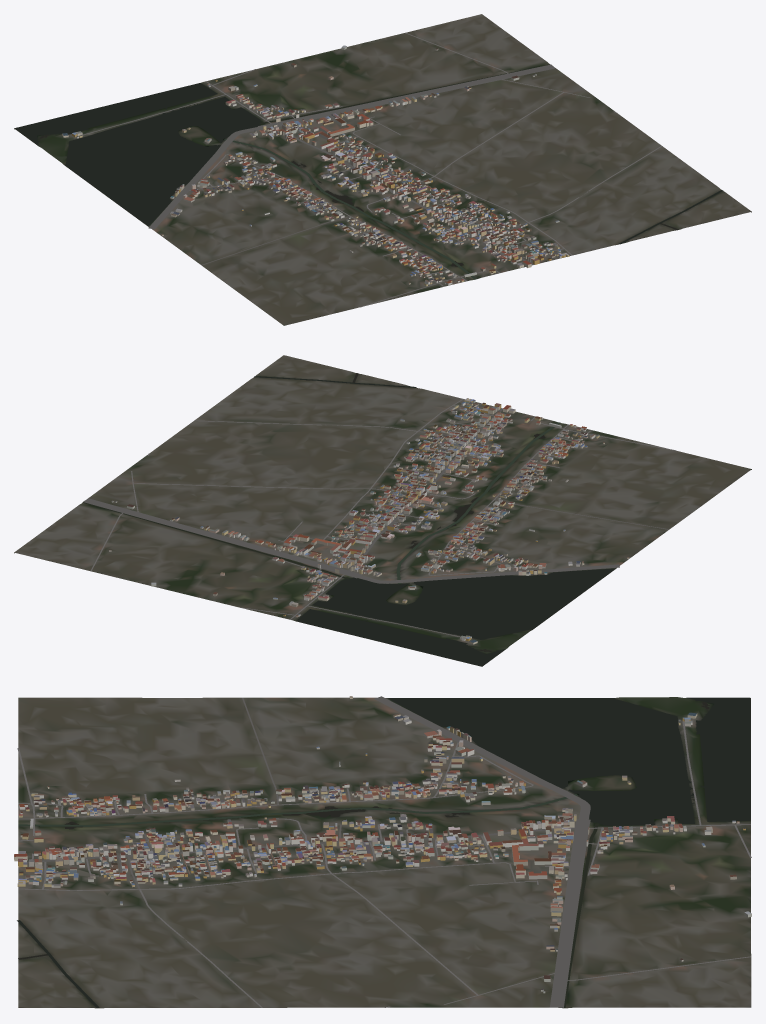
3 renders of one model, top to bottom at view 1: azimuth 30°, elevation 25°; view 2: azimuth 150°, elevation 25°; view 3: azimuth 270°, elevation 25°, orthographic. The views are drawn at different scales.
Visible parts, largest first — view 1: ground, water, buildings, roads; view 2: ground, water, buildings, roads; view 3: ground, water, buildings, roads.
Boxes of the visible parts, box(x1,y1,x2,y2) form: ground: box(14, 14, 751, 325); water: box(15, 64, 723, 279); buildings: box(62, 45, 569, 286); roads: box(76, 32, 662, 307); ground: box(14, 355, 751, 666); water: box(82, 373, 615, 666); buildings: box(109, 398, 629, 644); roads: box(83, 399, 675, 636); ground: box(18, 697, 751, 1008); water: box(17, 697, 750, 1008); buildings: box(14, 696, 751, 993); roads: box(17, 696, 751, 1007).
Size of the model in its own units: 1411 by 21.95 by 1412.
